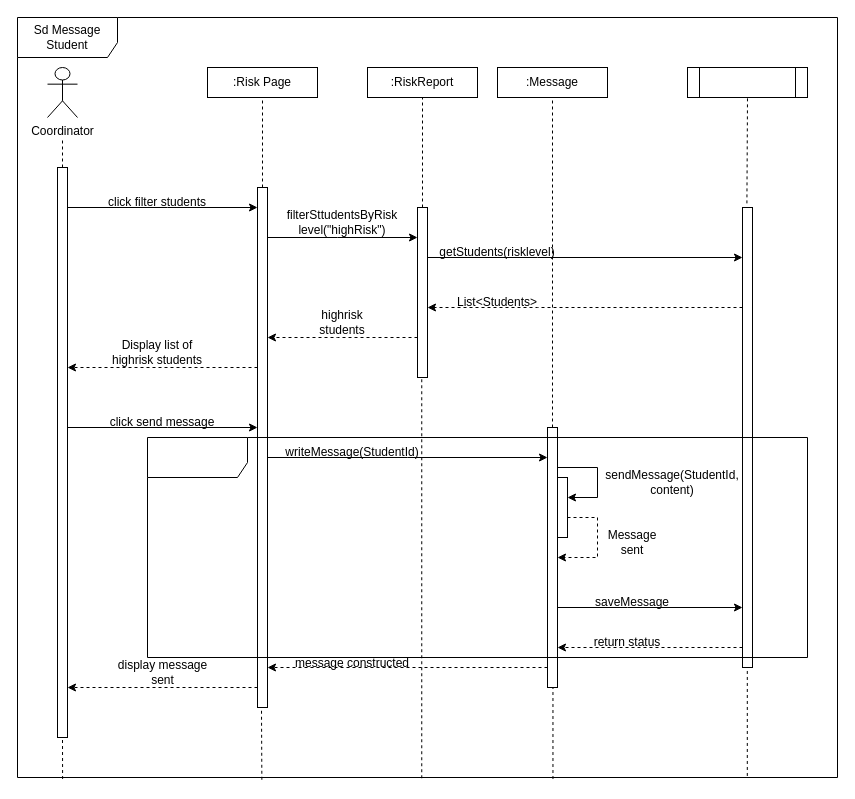
This 855x799 diagram has some shape labels left out. Each missing label, with the centre of its shape:
:Database: (x=747, y=82)
loop each student: (x=477, y=547)
